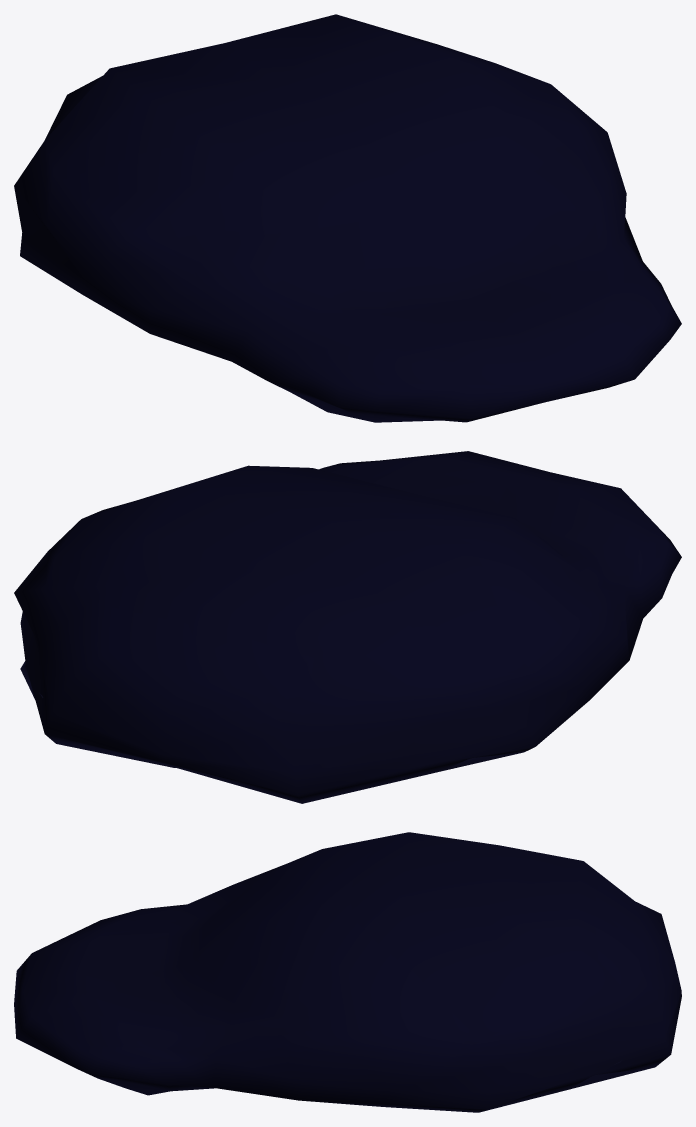
The model's file is gorro_parpusa.glb.
The picture shows the model from 3 angles, top to bottom: view 1: azimuth 30°, elevation 25°; view 2: azimuth 150°, elevation 25°; view 3: azimuth 270°, elevation 25°; orthographic projection. The views are drawn at different scales.
Parts seen in each view (by area): view 1: pieza; view 2: pieza; view 3: pieza.
Part boxes in pixels (x1,y1,x2,y2): pieza: [14, 14, 681, 422]; pieza: [14, 451, 681, 803]; pieza: [14, 832, 681, 1112].
Bounding box in the file's own units: 1.17 × 0.3928 × 1.54.
